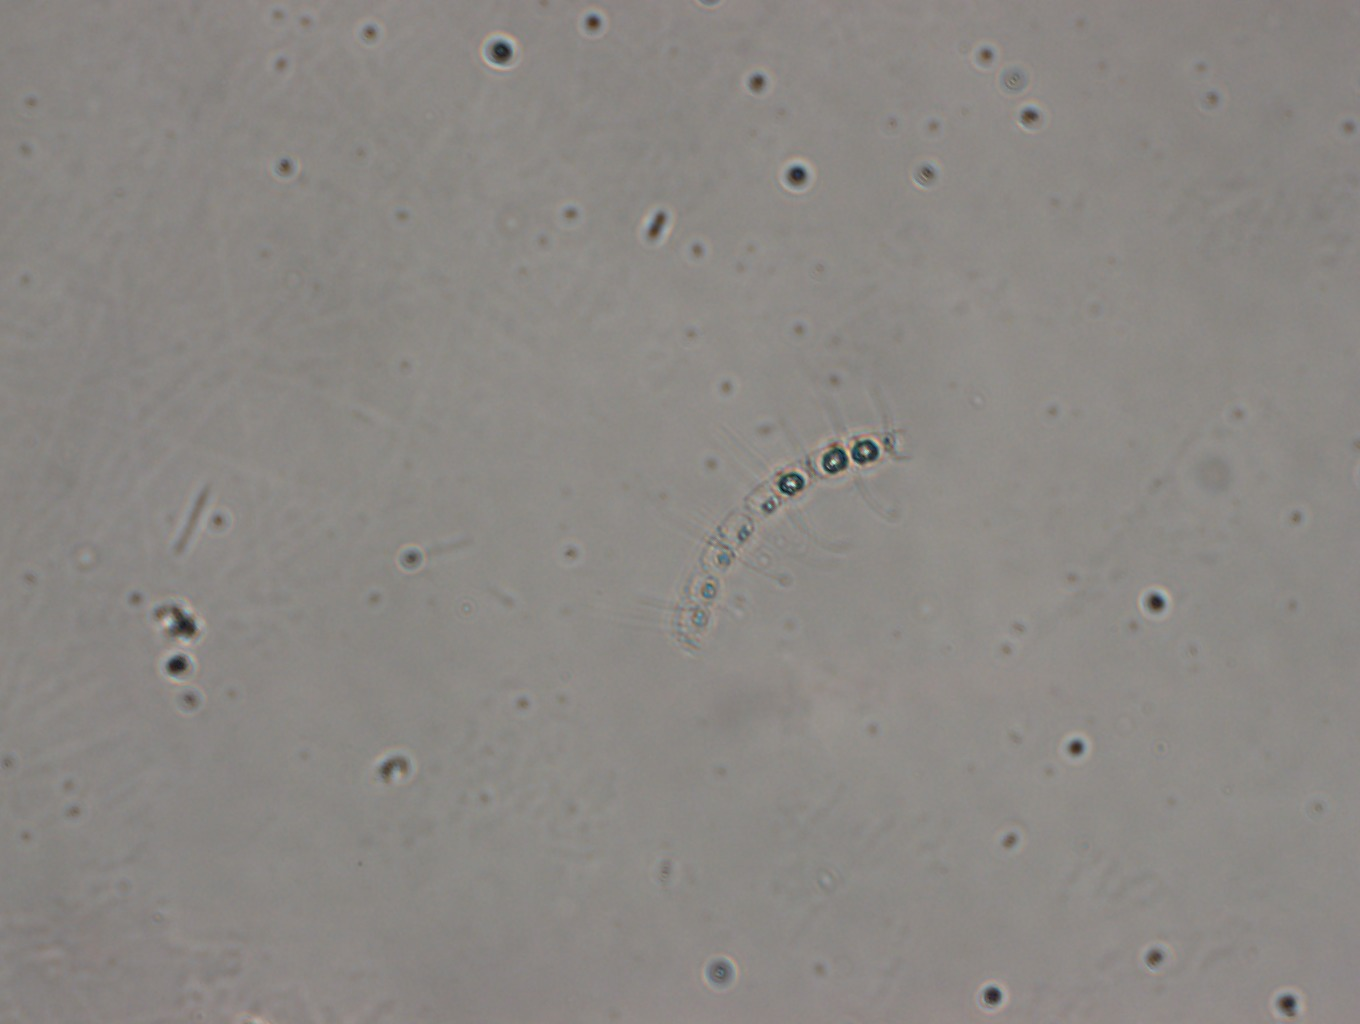chaetoceros: (621, 385, 910, 656)
